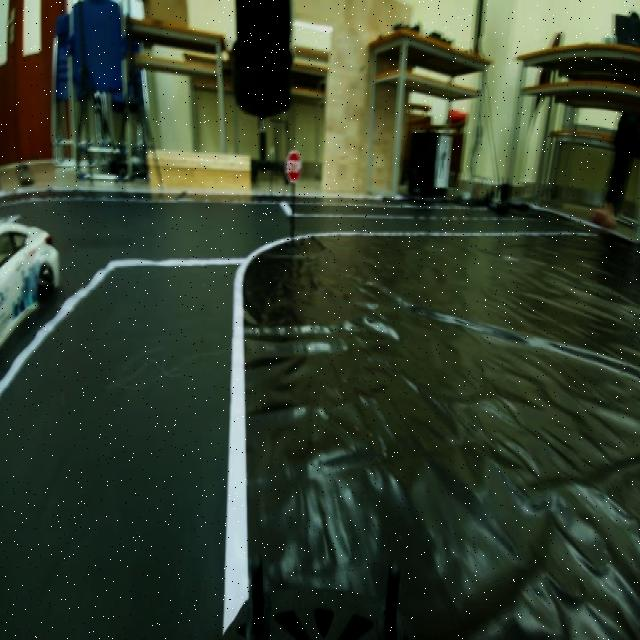stop: (279, 144, 307, 186)
